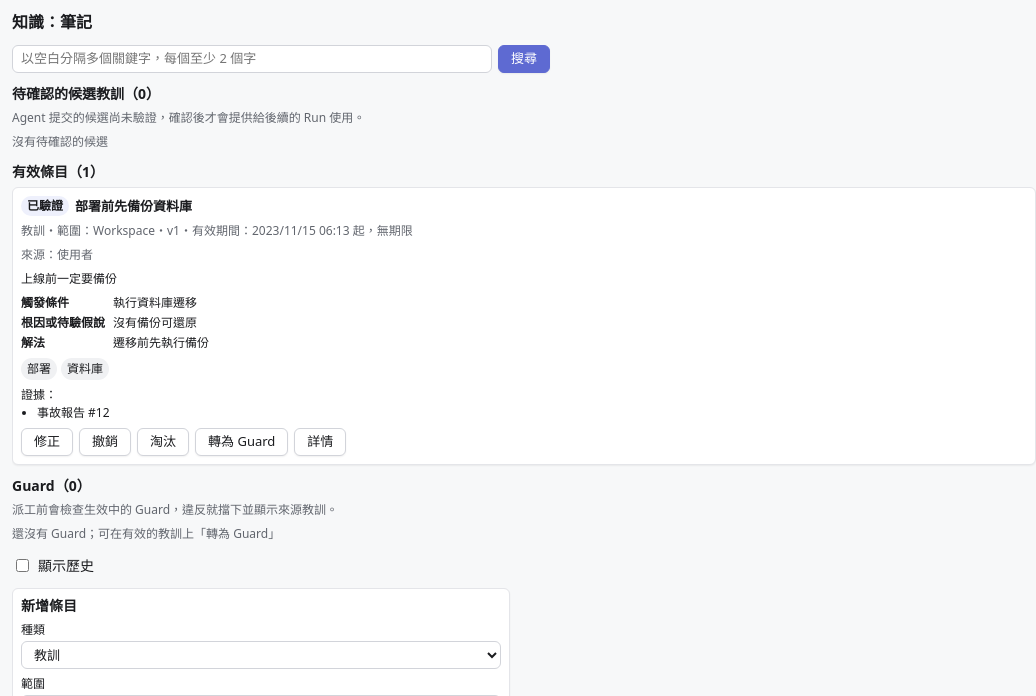
知識 › 淘汰需填原因，之後只在歷史中以無效顯示
Click the button "淘汰" at (163,442), box [137,428,189,456]
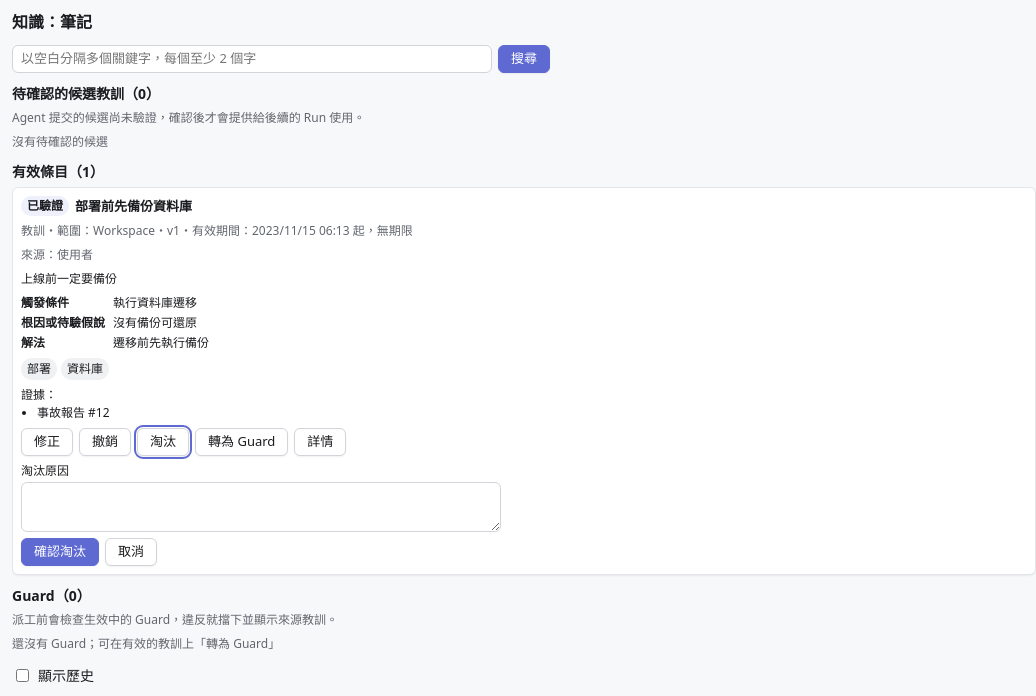
Type "已改用自動備份" into the text box labelled "淘汰原因" at (261,507), box [21,482,501,532]
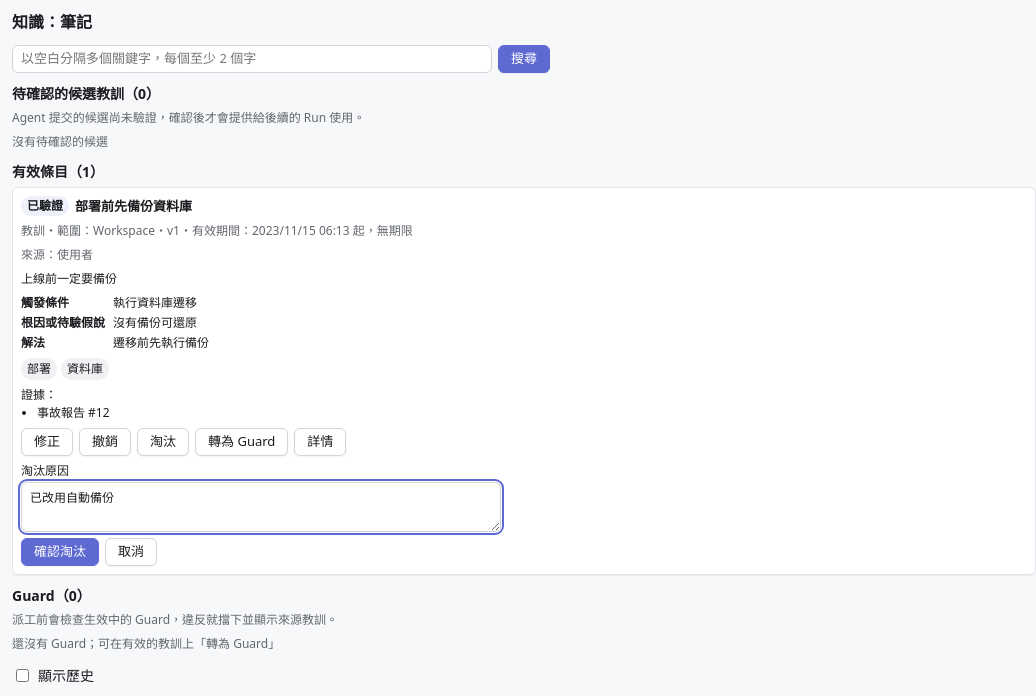
Click the button "確認淘汰" at (60,552), box [21,538,99,566]
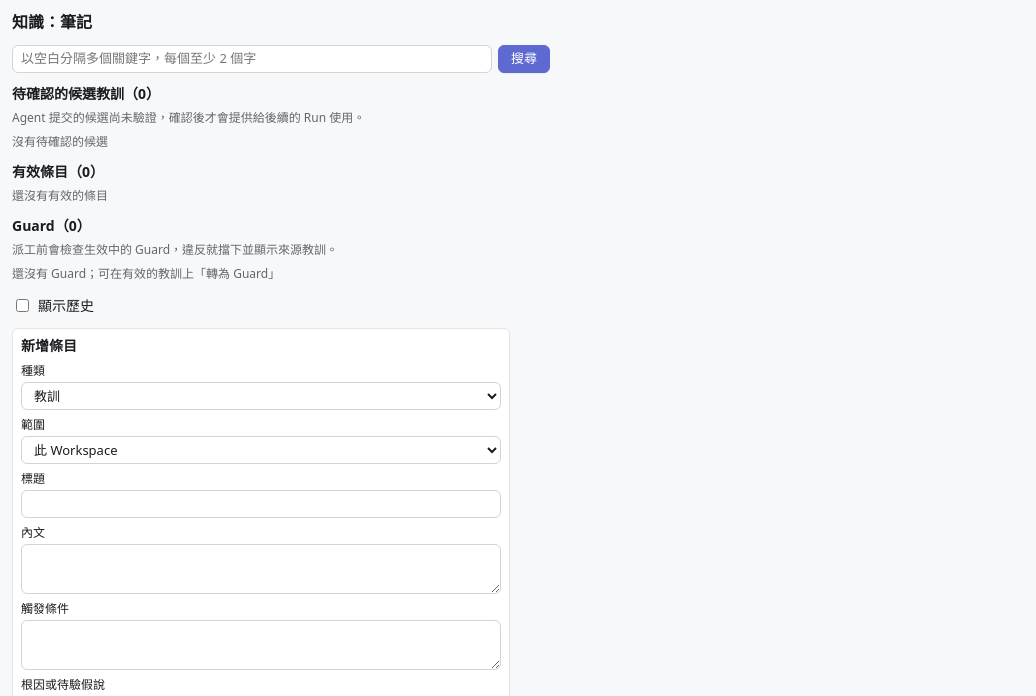
Result: the text "還沒有有效的條目" is shown at [12,187,108,204]
Click the checkbox labelled "顯示歷史" at (22,306), box [16,299,29,312]
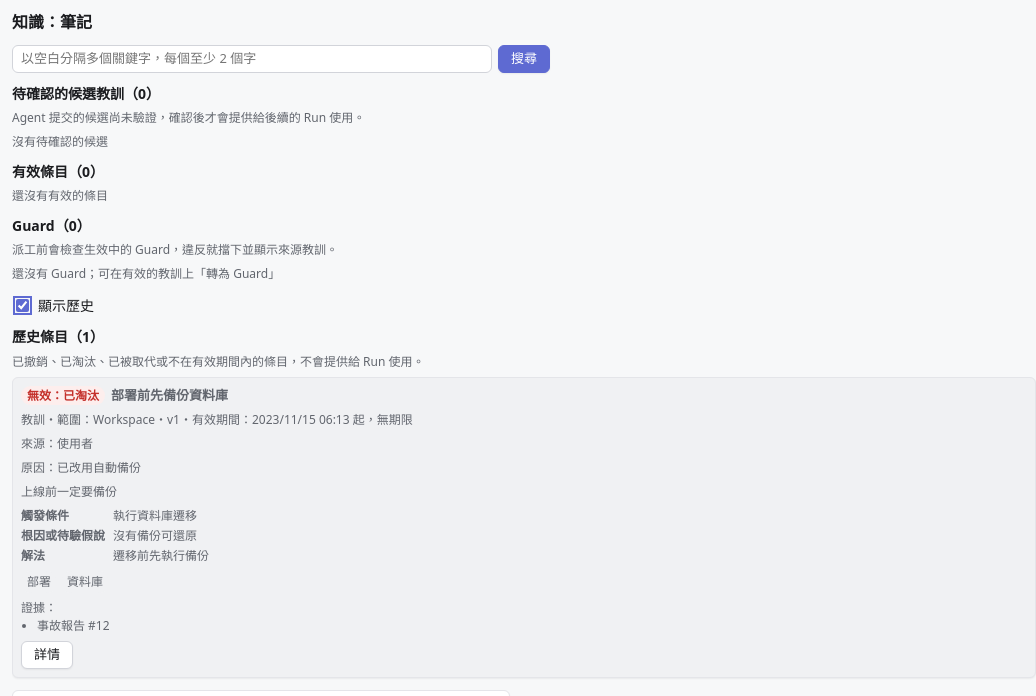
Result: the element "部署前先備份資料庫" shows "無效：已淘汰" at [27,386,99,404]
Result: the element "部署前先備份資料庫" shows "原因：已改用自動備份" at [12,376,1035,678]
Result: the buttons read "詳情", in this order at [21,641,73,669]
